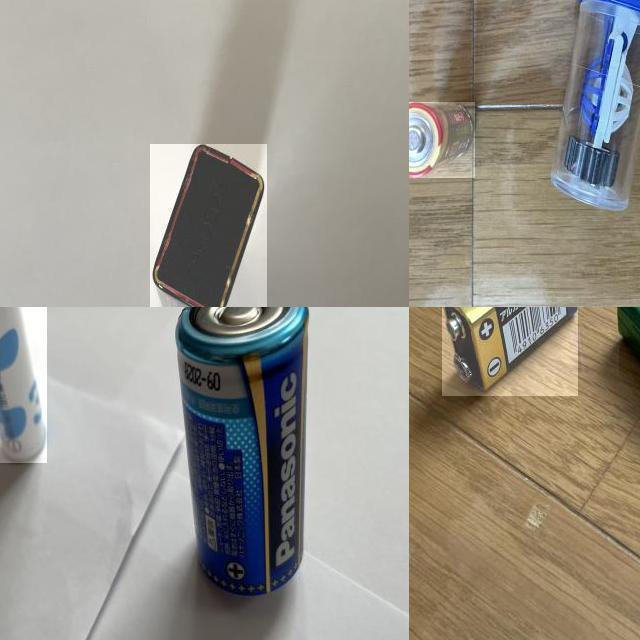9V: (150, 144, 267, 307), (442, 307, 578, 396)
